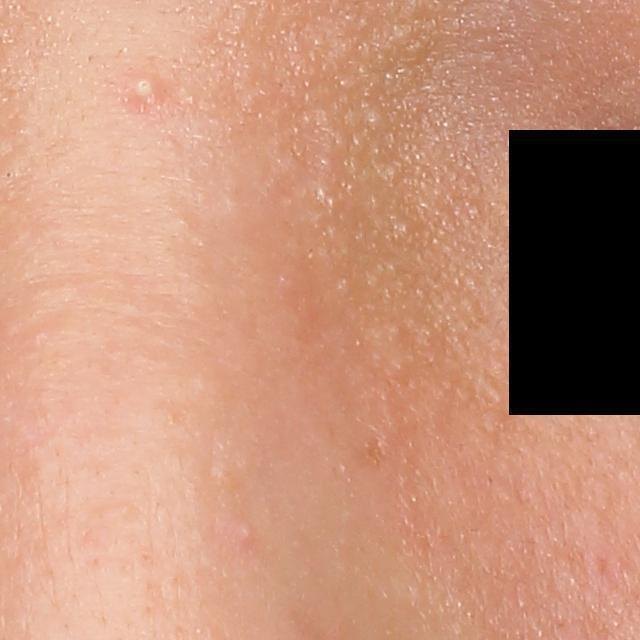comedo: (232, 518, 258, 547), (364, 107, 386, 139)
